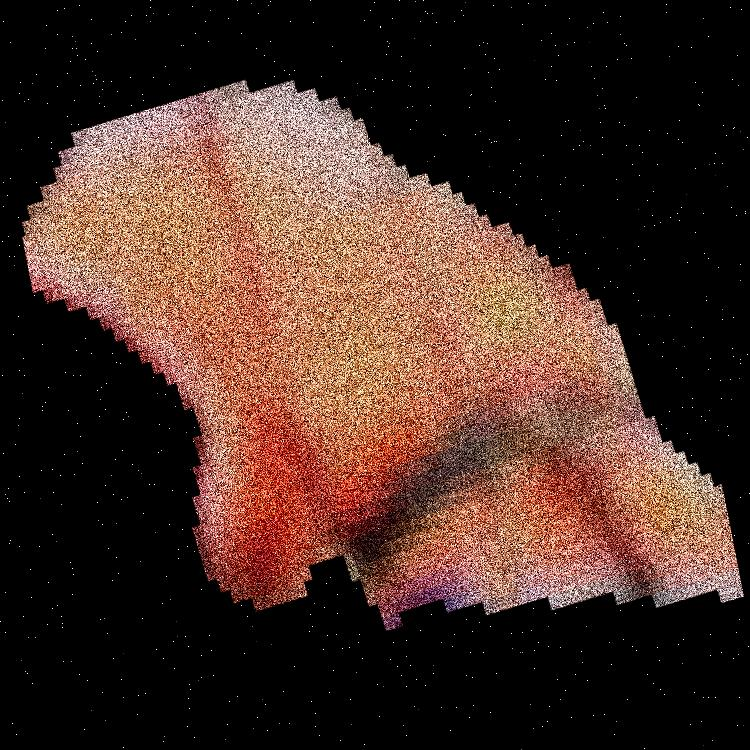Colete: (187, 0, 591, 749)
